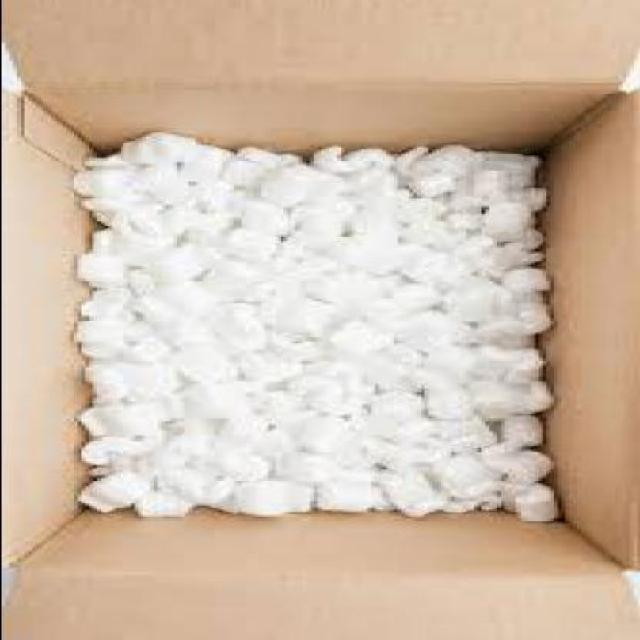CARDBOARD: (3, 1, 639, 130), (6, 514, 639, 640), (4, 96, 102, 570), (560, 83, 638, 574)
